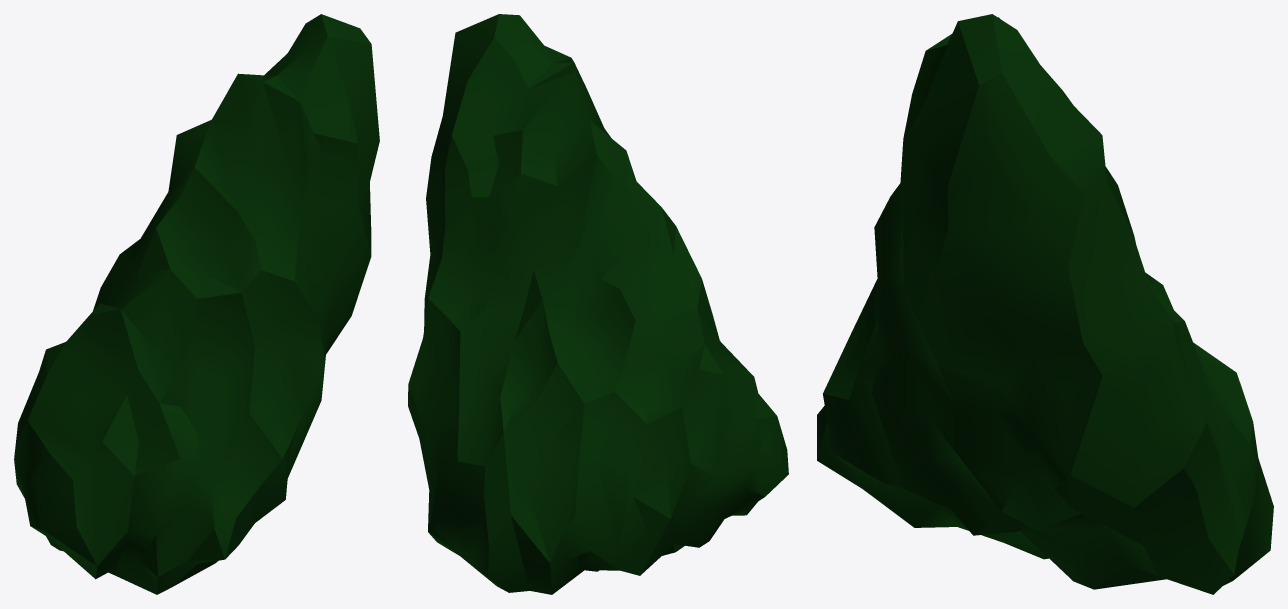
File: Asteroid5.obj
3 views of the same model, side by side, from view 1: azimuth 30°, elevation 25°; view 2: azimuth 150°, elevation 25°; view 3: azimuth 270°, elevation 25° (orthographic). The views are drawn at different scales.
Parts seen in each view (by area): view 1: Asteroid5; view 2: Asteroid5; view 3: Asteroid5.
Part boxes in pixels (x1,y1,x2,y2): Asteroid5: (14,14,379,594); Asteroid5: (408,14,788,594); Asteroid5: (817,14,1273,594).
Size of the model in its own units: 11.67 by 17.18 by 11.18.
